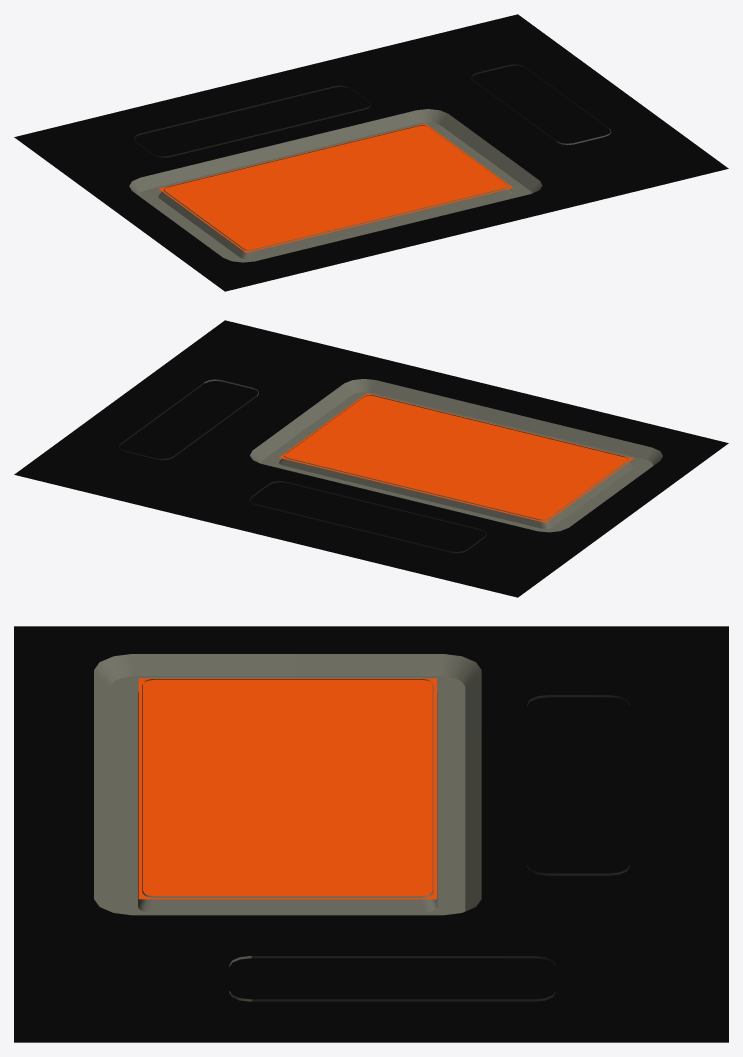
The model's file is Container_05_Cap_Storage.fbx.
3 views of the same model, one above another, from view 1: azimuth 30°, elevation 25°; view 2: azimuth 150°, elevation 25°; view 3: azimuth 270°, elevation 25° (orthographic). The views are drawn at different scales.
Parts seen in each view (by area): view 1: Container_05_Cap_Storage; view 2: Container_05_Cap_Storage; view 3: Container_05_Cap_Storage.
Part boxes in pixels (x1,y1,x2,y2): Container_05_Cap_Storage: (14,14,728,291); Container_05_Cap_Storage: (14,320,728,597); Container_05_Cap_Storage: (14,626,728,1042).
Bounding box in the file's own units: 58.83 × 1.98 × 42.68.
